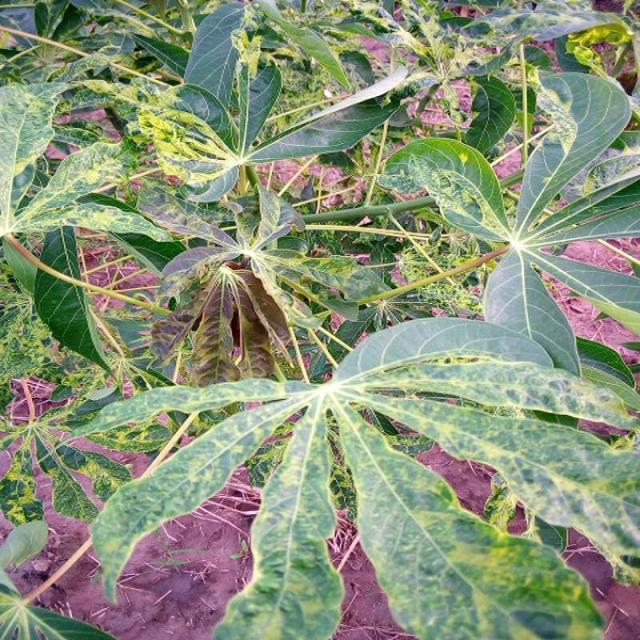cassava leaf: (1, 1, 638, 638), (78, 317, 636, 638), (332, 393, 607, 638)
